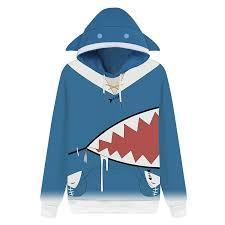sweater: (43, 11, 178, 213)
